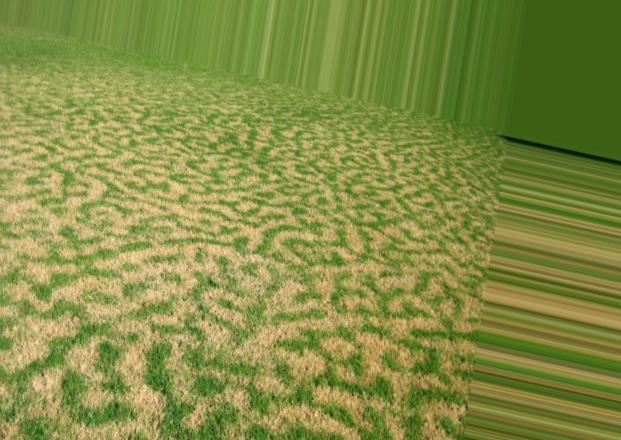patch: (31, 84, 278, 307), (37, 305, 433, 440), (271, 125, 464, 302)
